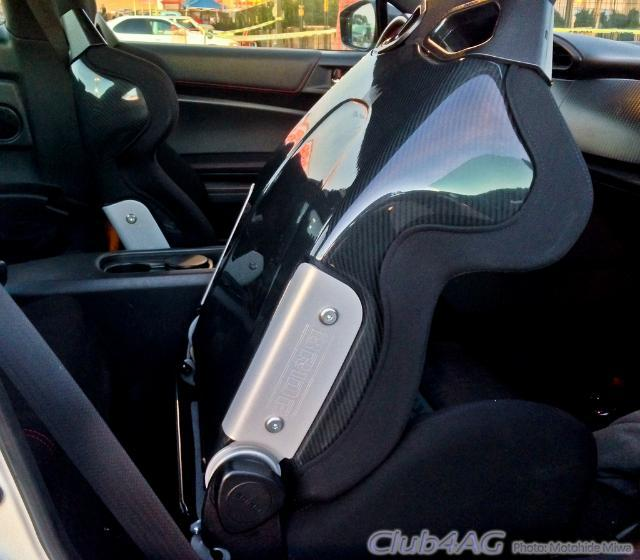Seatbelt: (1, 258, 206, 559)
